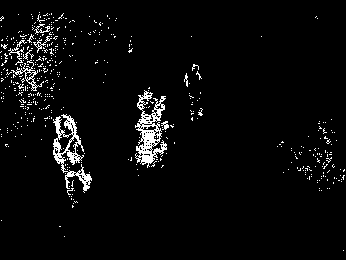person: (53, 115, 93, 203), (184, 63, 208, 121)
